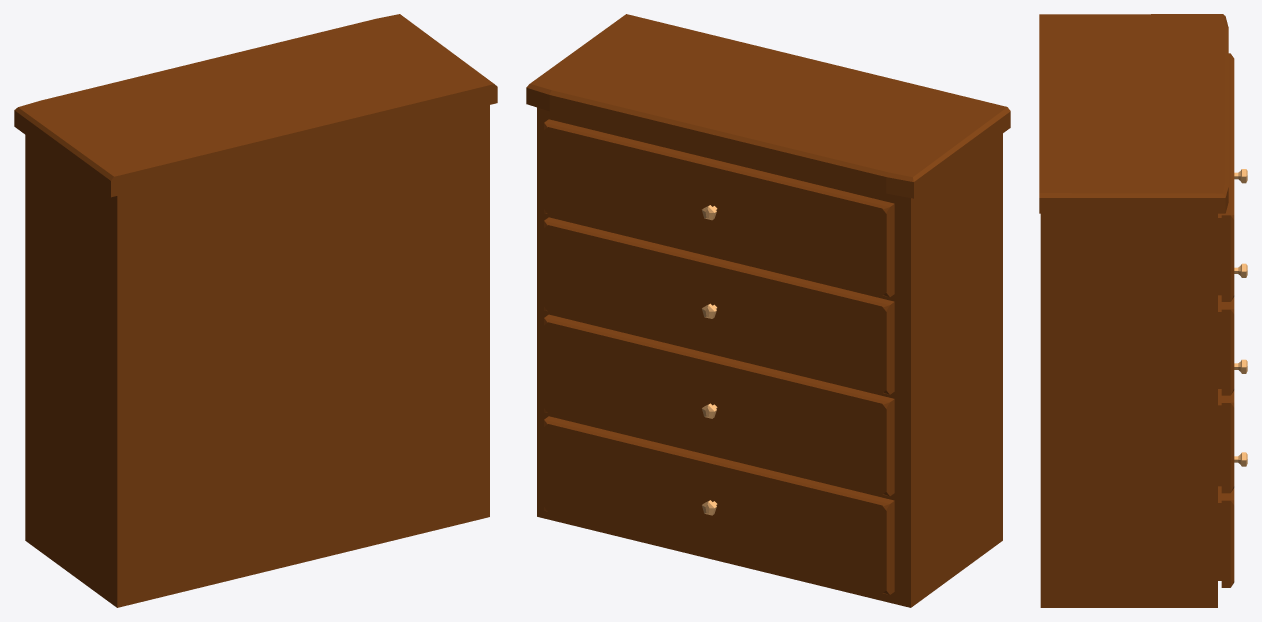
The model's file is dresser_002.FBX.
3 renders of one model, left to right at view 1: azimuth 30°, elevation 25°; view 2: azimuth 150°, elevation 25°; view 3: azimuth 270°, elevation 25°, orthographic. The views are drawn at different scales.
Visible parts, largest first — view 1: dresser_001; view 2: dresser_001; view 3: dresser_001.
Boxes of the visible parts, <box> form: dresser_001: <box>14,14,497,607</box>; dresser_001: <box>526,14,1010,607</box>; dresser_001: <box>1039,14,1234,607</box>.
Bounding box in the file's own units: 1.18 × 1.27 × 0.5736.
